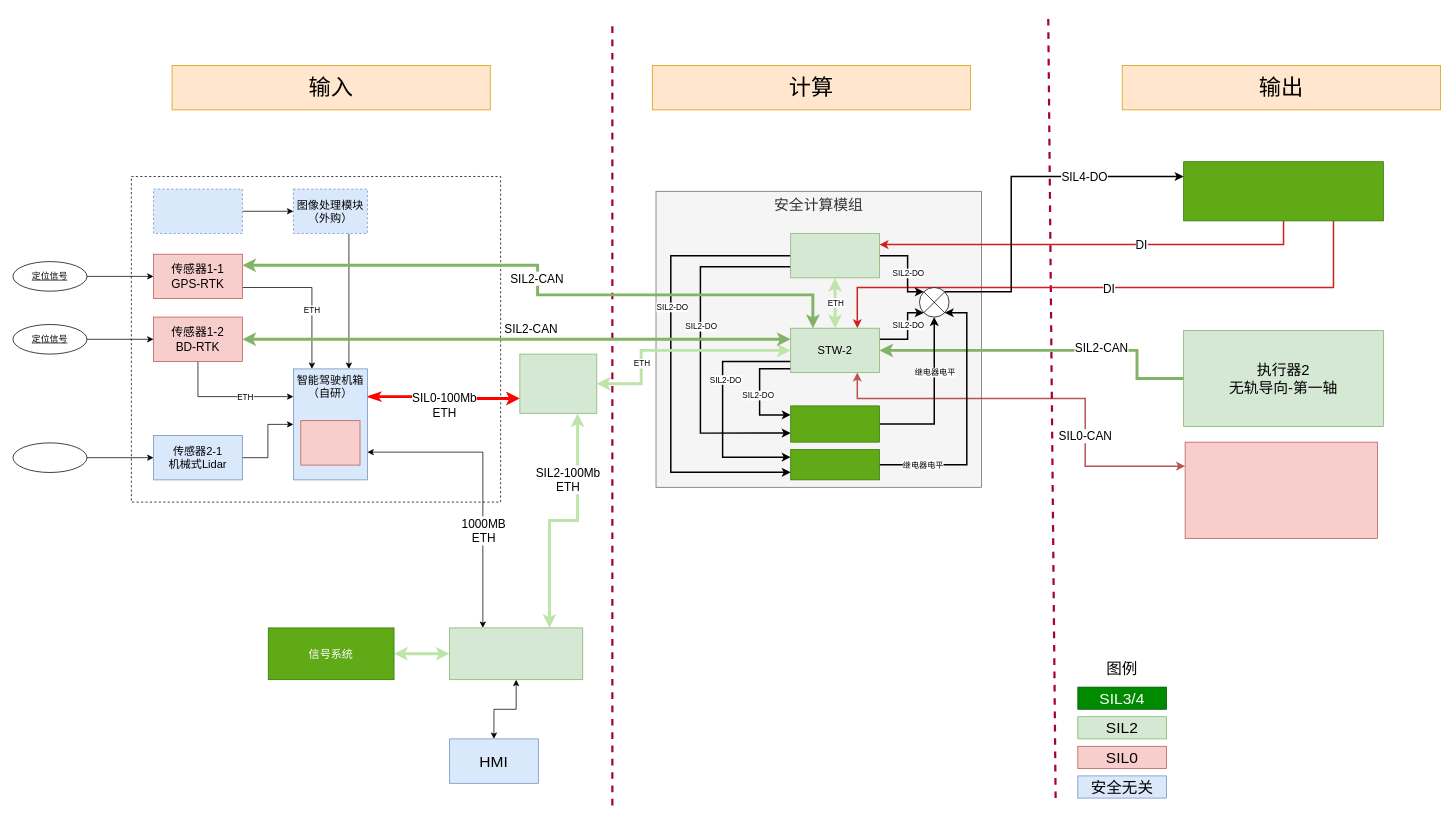
The diagram is 1453 pixels wide and 820 high, and some of its shapes have lost their labels. Here are the shapes that lost their labels. From the top down, the centre of each, then its label:
the point at 197,210: 传感器0-1 Camera 模组
the point at 1283,191: 执行器1 安全制动系统
the point at 834,255: STW-1
the point at 558,383: 安全以太网交换机
the point at 330,442: 循迹控制-性能-SIL0
the point at 834,423: 安全继电器-1
the point at 49,457: 点云数据
the point at 834,464: 安全继电器-2
the point at 1281,489: 线控转向机 要求SIL1+人工
the point at 516,653: 整车网络-VCMS
